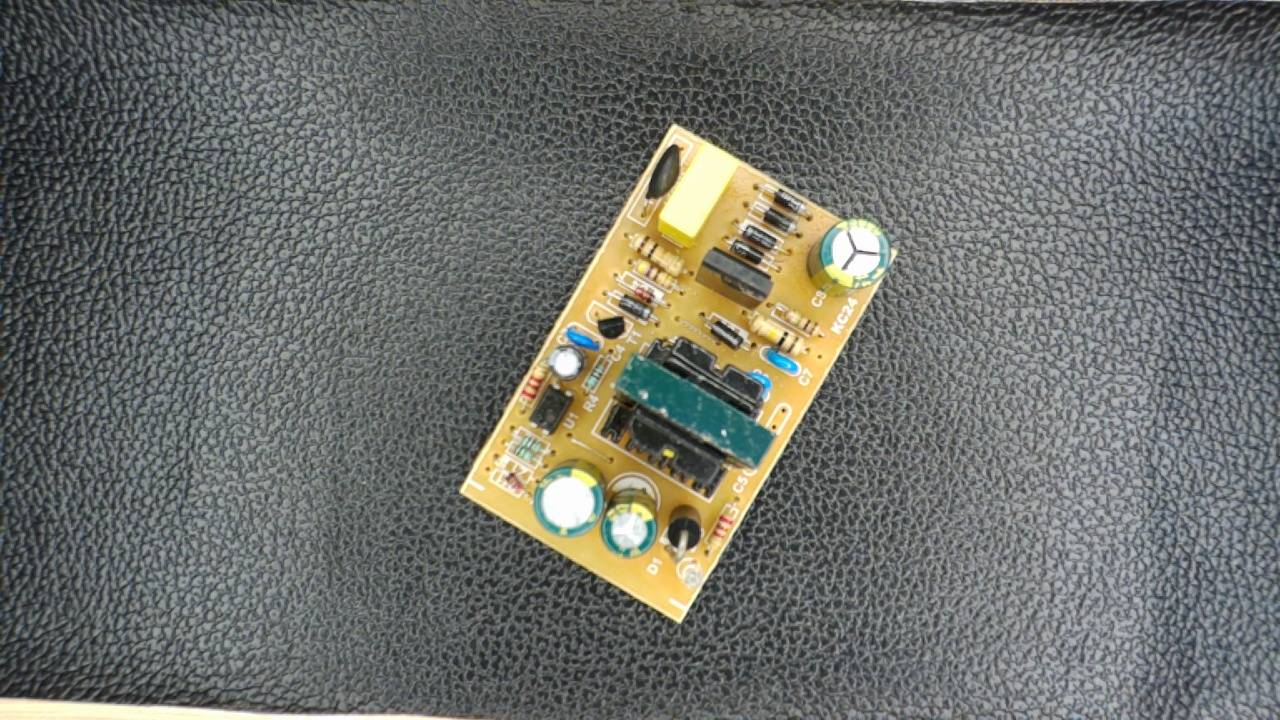fuse: (641, 141, 692, 209)
hv_capacitor: (806, 215, 890, 297)
optocoupler: (531, 374, 573, 440)
